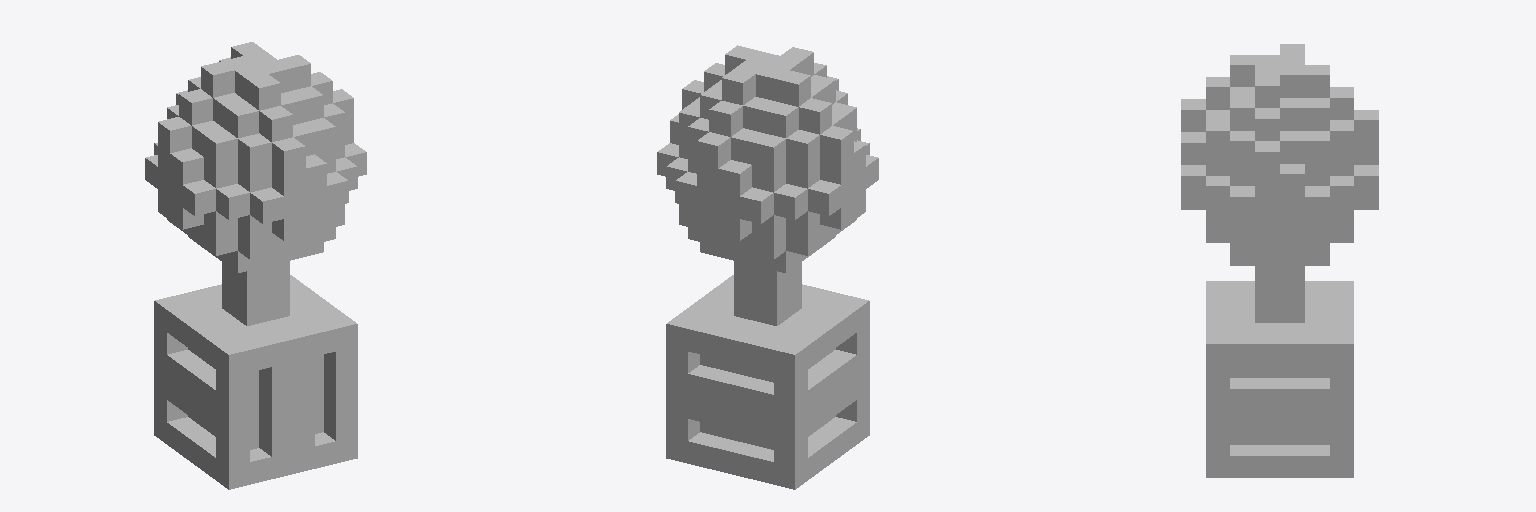
Rendered from Bush.obj.
3 renders of one model, left to right at view 1: azimuth 30°, elevation 25°; view 2: azimuth 150°, elevation 25°; view 3: azimuth 270°, elevation 25°, orthographic.
Visible parts, largest first — view 1: object 1; view 2: object 1; view 3: object 1.
Boxes of the visible parts, box(x1,y1,x2,y2) form: object 1: box(145, 42, 366, 489); object 1: box(657, 45, 878, 489); object 1: box(1181, 44, 1378, 477).
Bounding box in the file's own units: 0.8 × 1.7 × 0.8.